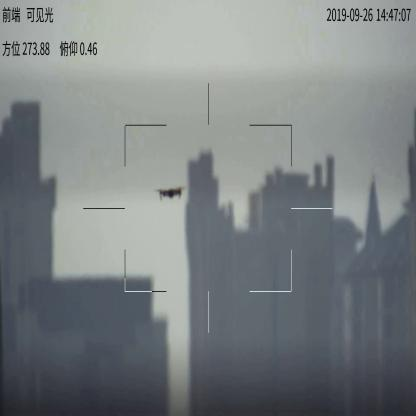uav: (152, 184, 188, 203)
